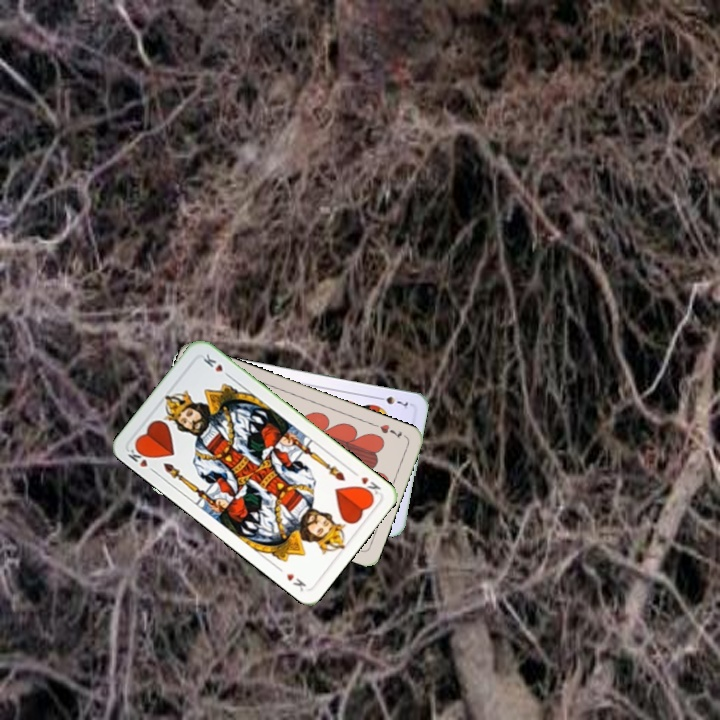H7: (369, 419, 405, 442)
HK: (348, 466, 383, 500), (124, 441, 153, 470)
S7: (372, 392, 411, 411)
